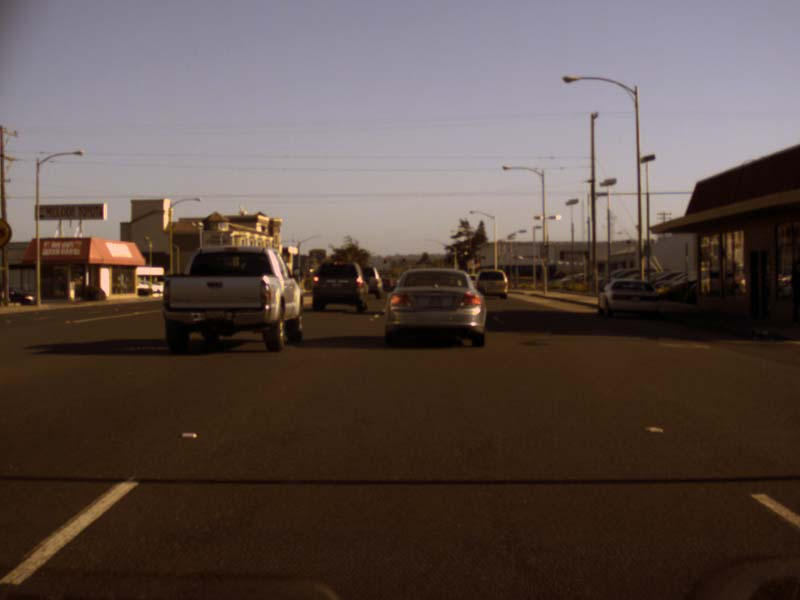Green: (402, 258, 405, 265)
